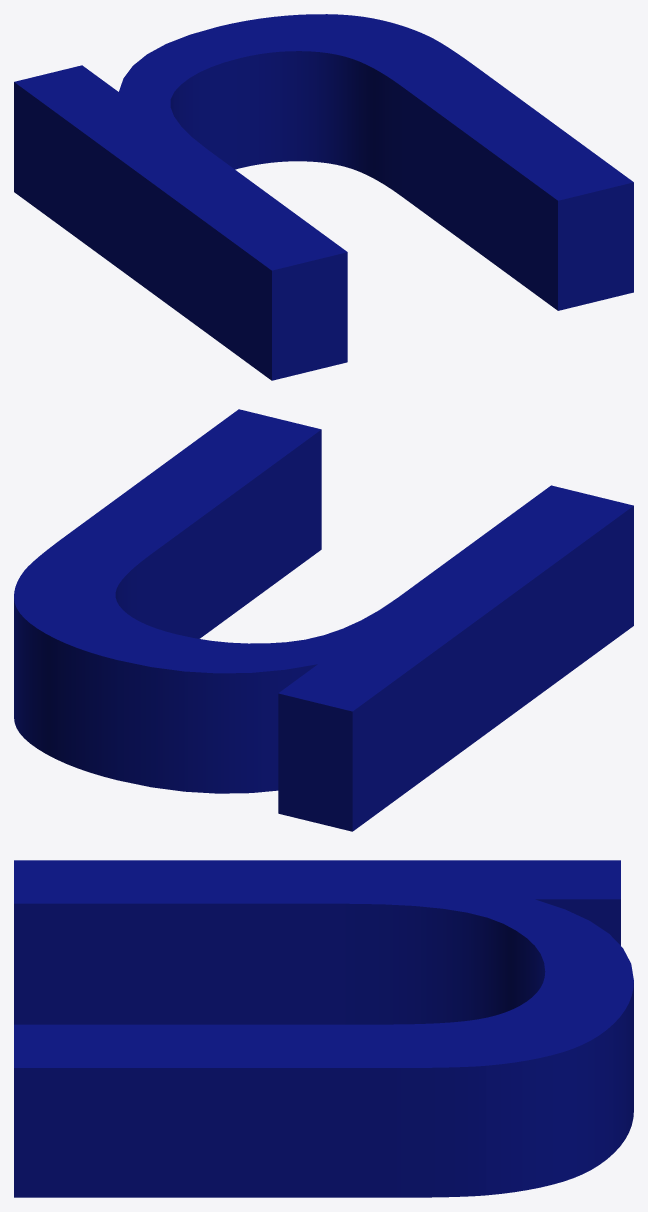
3 renders of one model, top to bottom at view 1: azimuth 30°, elevation 25°; view 2: azimuth 150°, elevation 25°; view 3: azimuth 270°, elevation 25°, orthographic. The views are drawn at different scales.
Parts seen in each view (by area): view 1: TextPlus040; view 2: TextPlus040; view 3: TextPlus040.
Boxes of the visible parts, x1,y1,x2,y2 form: TextPlus040: (14, 14, 633, 380); TextPlus040: (14, 409, 633, 831); TextPlus040: (14, 860, 633, 1197).
Bounding box in the file's own units: 15.08 × 4.38 × 19.
